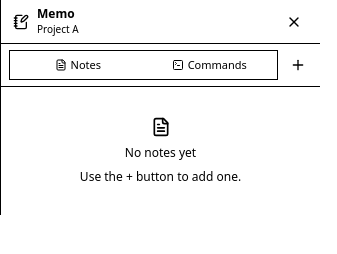
Test: ProjectMemoPanel › disables Run and Insert without a running terminal and explains why
This screenshot has width=337, height=254.
What coordinates should you click on to do the following:
click the tab "Commands"
I would click on:
 (209, 65)
Its box is x1=144 y1=53 x2=275 y2=77.
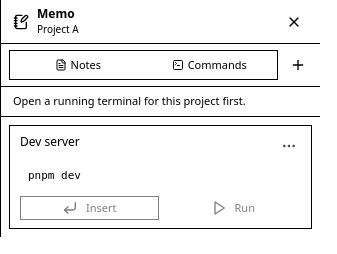
Check: the button "Run" is disabled, box x1=164 y1=196 x2=301 y2=220
Check: the button "Insert" is disabled, box x1=20 y1=196 x2=158 y2=220
Check: the text "Open a running terminal for this project first." is shown, box x1=1 y1=87 x2=320 y2=116
